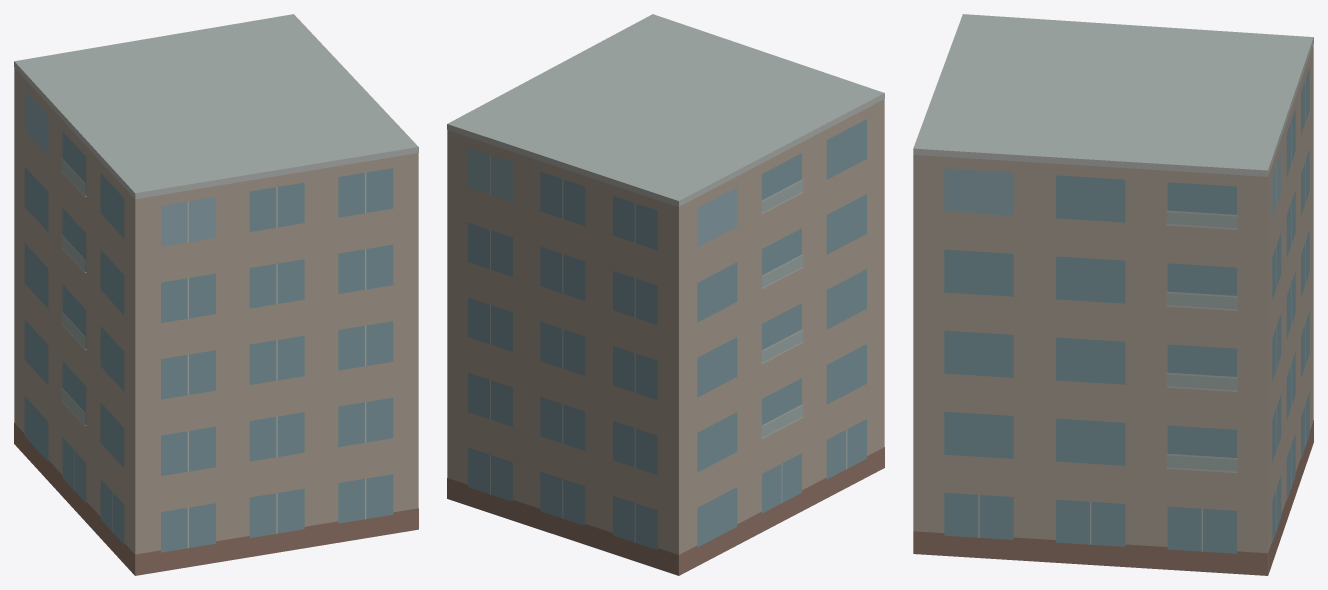
The model's file is survey-upis-32540986.glb.
The picture shows the model from 3 angles, left to right: view 1: azimuth 30°, elevation 25°; view 2: azimuth 150°, elevation 25°; view 3: azimuth 270°, elevation 25°; orthographic projection. The views are drawn at different scales.
Parts seen in each view (by area): view 1: survey-upis-32540986.tmp; view 2: survey-upis-32540986.tmp; view 3: survey-upis-32540986.tmp.
Boxes of the visible parts, box(x1,y1,x2,y2) form: survey-upis-32540986.tmp: box(14, 14, 418, 575); survey-upis-32540986.tmp: box(447, 14, 884, 575); survey-upis-32540986.tmp: box(913, 14, 1313, 575).
Size of the model in its own units: 12.93 by 15.6 by 13.98.
